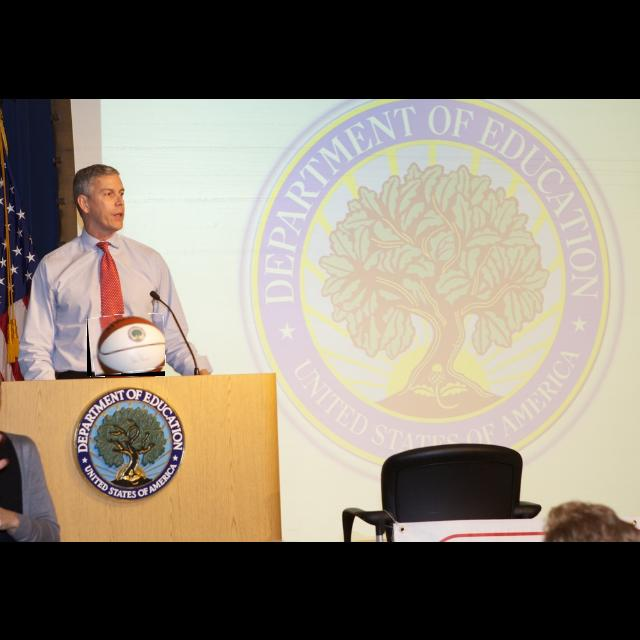Football: (87, 314, 165, 376)
